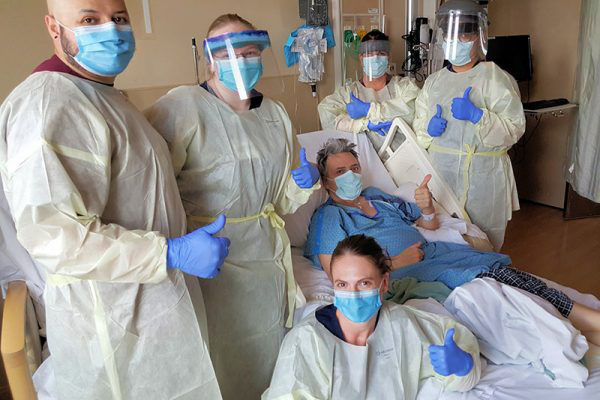Coverall: (1, 71, 172, 396), (149, 85, 291, 400), (416, 62, 525, 256), (260, 308, 481, 399), (316, 78, 420, 130)
Face_Shield: (200, 28, 286, 98)
Gloves: (167, 213, 232, 281), (431, 328, 476, 377), (290, 147, 324, 188), (450, 86, 484, 124), (344, 90, 370, 119), (428, 105, 446, 138), (368, 121, 390, 135)
Mask: (72, 14, 137, 77), (332, 282, 380, 324), (217, 58, 265, 94), (335, 165, 365, 201), (442, 36, 473, 66), (360, 52, 389, 77)
